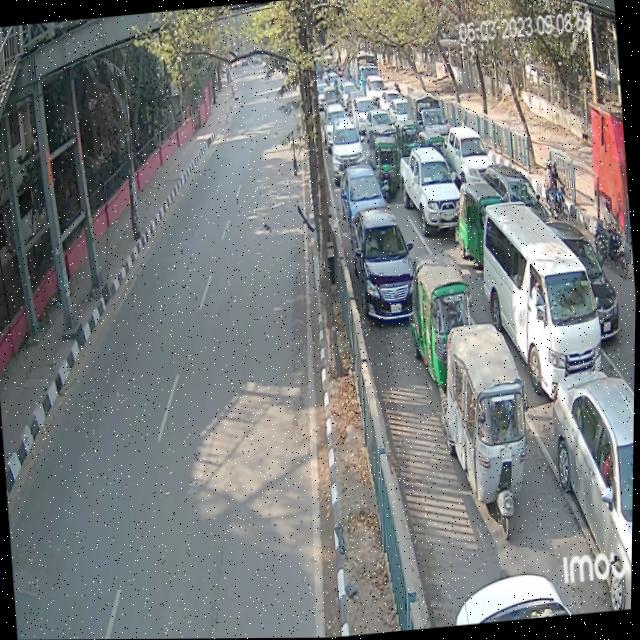cng: (444, 315, 545, 556), (402, 249, 480, 384), (452, 178, 506, 263), (369, 132, 399, 197), (396, 119, 422, 168)
